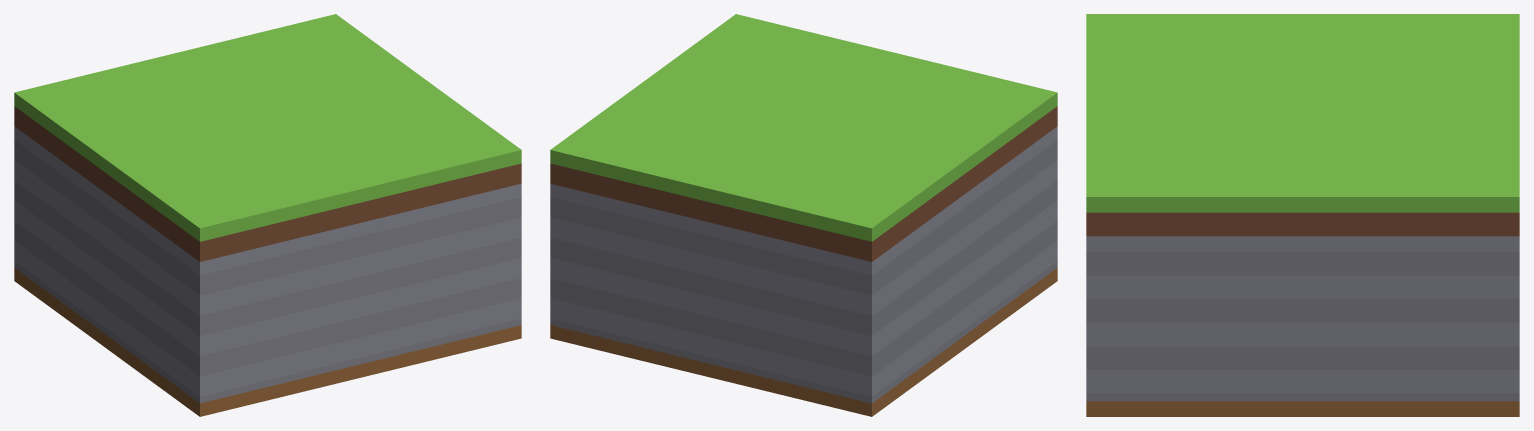
File: plateau_grass_l1.glb
The picture shows the model from 3 angles, left to right: view 1: azimuth 30°, elevation 25°; view 2: azimuth 150°, elevation 25°; view 3: azimuth 270°, elevation 25°; orthographic projection. The views are drawn at different scales.
Visible parts, largest first — view 1: model_0; view 2: model_0; view 3: model_0.
Part boxes in pixels (bbox=[...]): model_0: bbox=[14, 14, 521, 416]; model_0: bbox=[550, 14, 1057, 416]; model_0: bbox=[1086, 14, 1519, 416].
Size of the model in its own units: 2 by 1.12 by 2.
